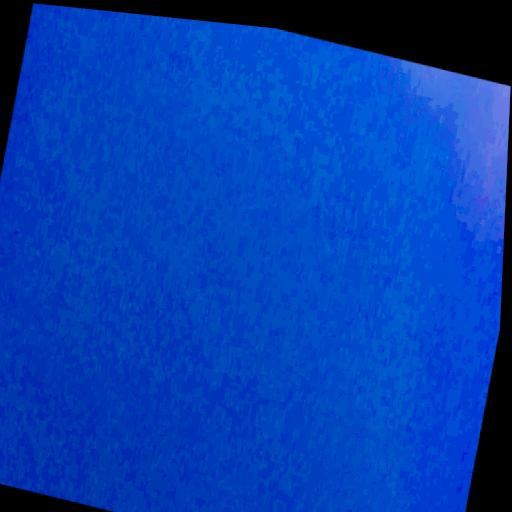drones: (217, 172, 220, 177)
